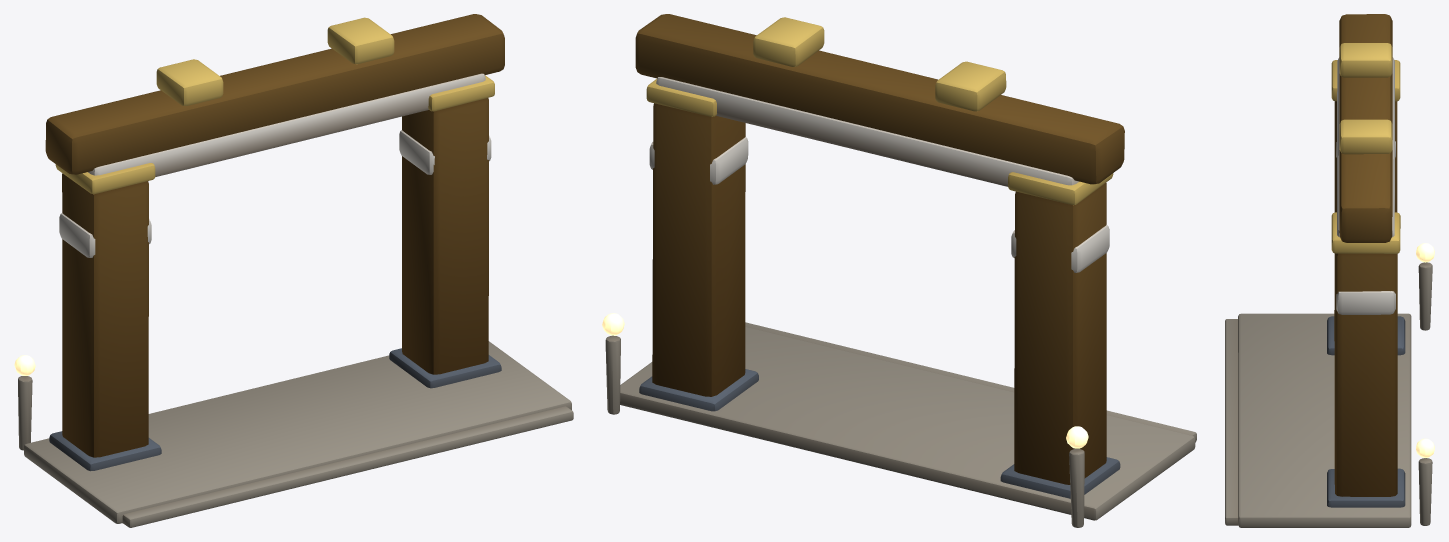
The picture shows the model from 3 angles, left to right: view 1: azimuth 30°, elevation 25°; view 2: azimuth 150°, elevation 25°; view 3: azimuth 270°, elevation 25°; orthographic projection. The views are drawn at different scales.
Parts seen in each view (by area): view 1: gate_f917f853; view 2: gate_f917f853; view 3: gate_f917f853.
Boxes of the visible parts, x1,y1,x2,y2 form: gate_f917f853: (14,14,573,527); gate_f917f853: (602,14,1196,527); gate_f917f853: (1225,14,1434,527).
Size of the model in its own units: 5.88 by 4.53 by 2.54.
